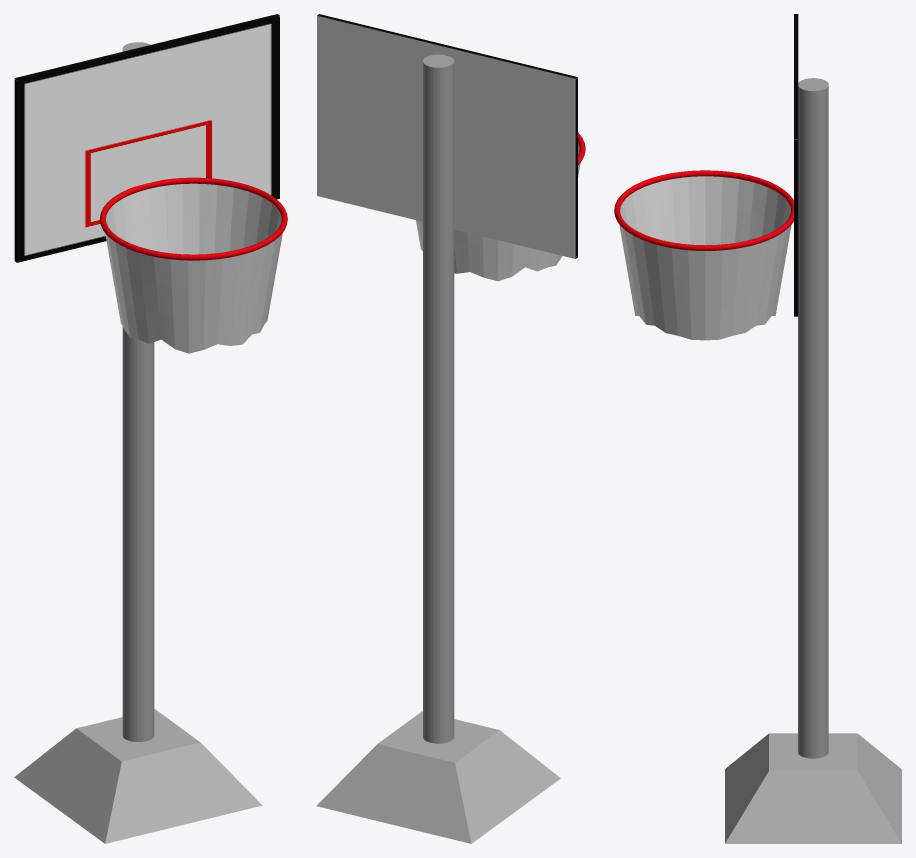
The model's file is basketball_basket_v3.fbx.
3 renders of one model, left to right at view 1: azimuth 30°, elevation 25°; view 2: azimuth 150°, elevation 25°; view 3: azimuth 270°, elevation 25°, orthographic. The views are drawn at different scales.
Visible parts, largest first — view 1: Plane, Cylinder.001, Cube, Cylinder, Torus; view 2: Plane, Cylinder, Cube, Cylinder.001; view 3: Cylinder.001, Cylinder, Cube, Torus, Plane.
Part boxes in pixels (bbox=[...]): Plane: bbox=[14, 14, 279, 262]; Cylinder.001: bbox=[105, 183, 282, 353]; Cube: bbox=[14, 709, 262, 843]; Cylinder: bbox=[122, 42, 154, 741]; Torus: bbox=[100, 177, 287, 260]; Plane: bbox=[317, 14, 577, 258]; Cylinder: bbox=[423, 54, 454, 743]; Cube: bbox=[316, 711, 560, 843]; Cylinder.001: bbox=[416, 143, 580, 281]; Cylinder.001: bbox=[619, 176, 791, 340]; Cylinder: bbox=[798, 78, 828, 758]; Cube: bbox=[725, 733, 901, 843]; Torus: bbox=[614, 170, 793, 250]; Plane: bbox=[794, 14, 798, 316].
Bounding box in the file's own units: 1.52 × 4.14 × 1.48.
